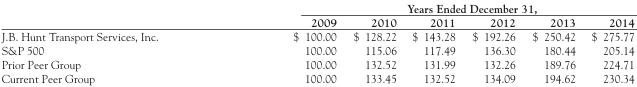table: (0, 0, 633, 84)
table column: (0, 0, 225, 84), (225, 0, 344, 84), (403, 0, 463, 84), (463, 0, 523, 84), (344, 0, 403, 84), (523, 0, 582, 84), (582, 0, 633, 84)
table column header: (0, 0, 633, 28)
table row: (0, 0, 633, 14), (0, 14, 633, 28), (0, 28, 633, 42), (0, 42, 633, 56), (0, 56, 633, 70), (0, 70, 633, 84)
table spanning cell: (225, 0, 633, 14)
